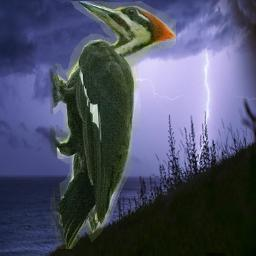Woodpecker: (50, 1, 176, 249)
